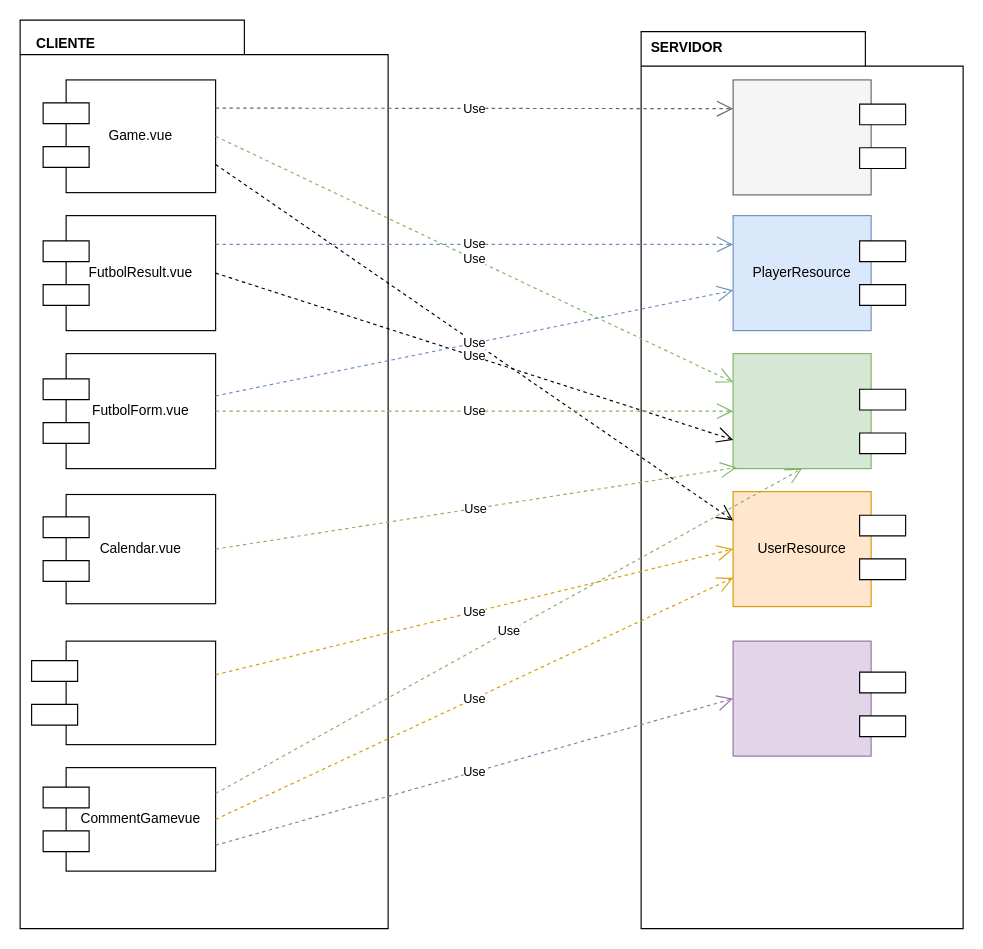
This 983x949 diagram has some shape labels left out. Here are the shapes that lost their labels. From the top down, the centre of each, then its label:
At point (801, 137): "SportResource".
At point (801, 410): "GameResource".
At point (140, 692): "ActivitiesFollowed.vue".
At point (801, 698): "CommentResource".
